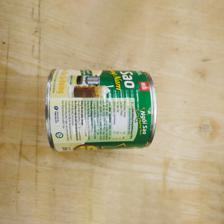NSPN_Lon: (41, 66, 160, 155)
